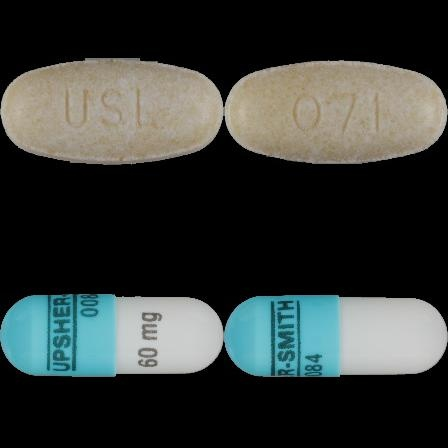0245-0071: (0, 0, 224, 224)
